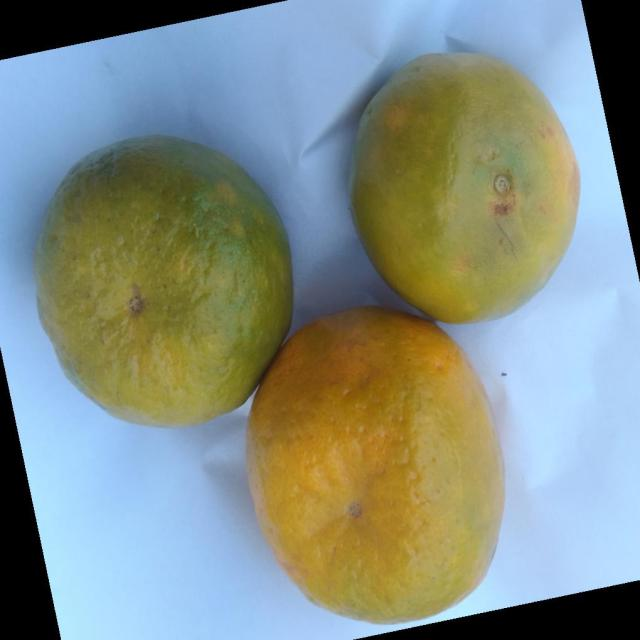fresh orange: (244, 304, 506, 624), (32, 132, 294, 428), (349, 49, 581, 323)
